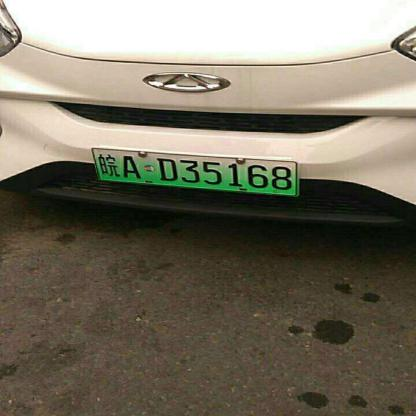lp: (88, 148, 294, 197)
